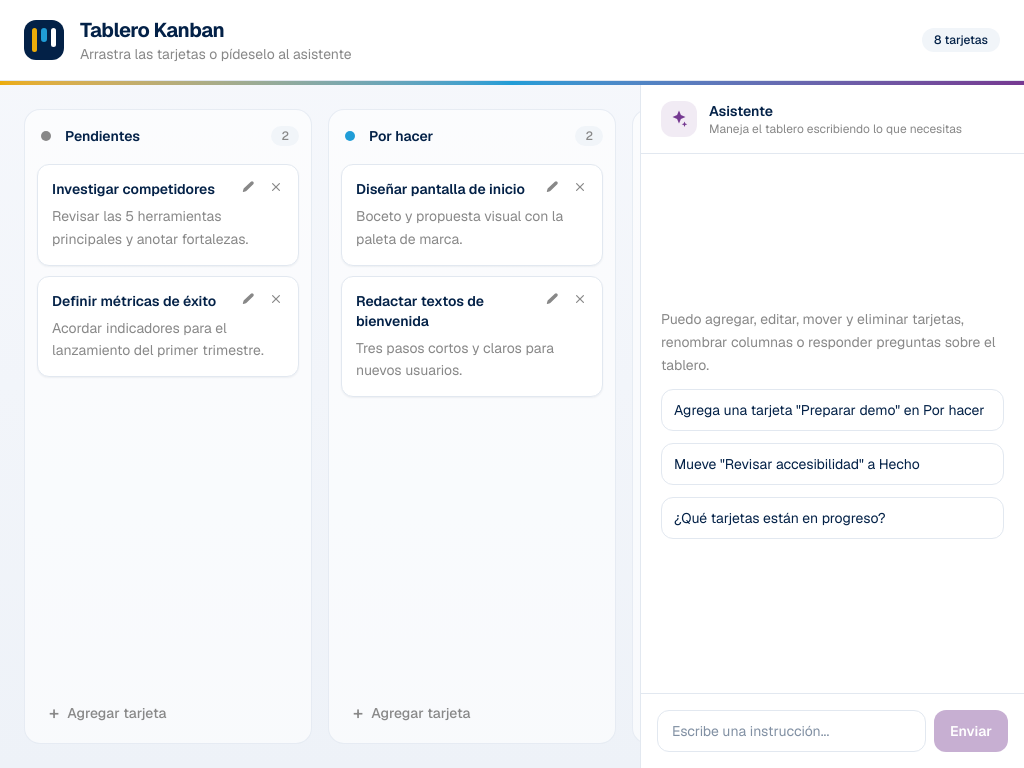
Test: Asistente › muestra el error y permite reintentar
The image size is (1024, 768).
Type "Hola" into the field named "Mensaje para el asistente" at [791, 731], box [657,710,926,752]
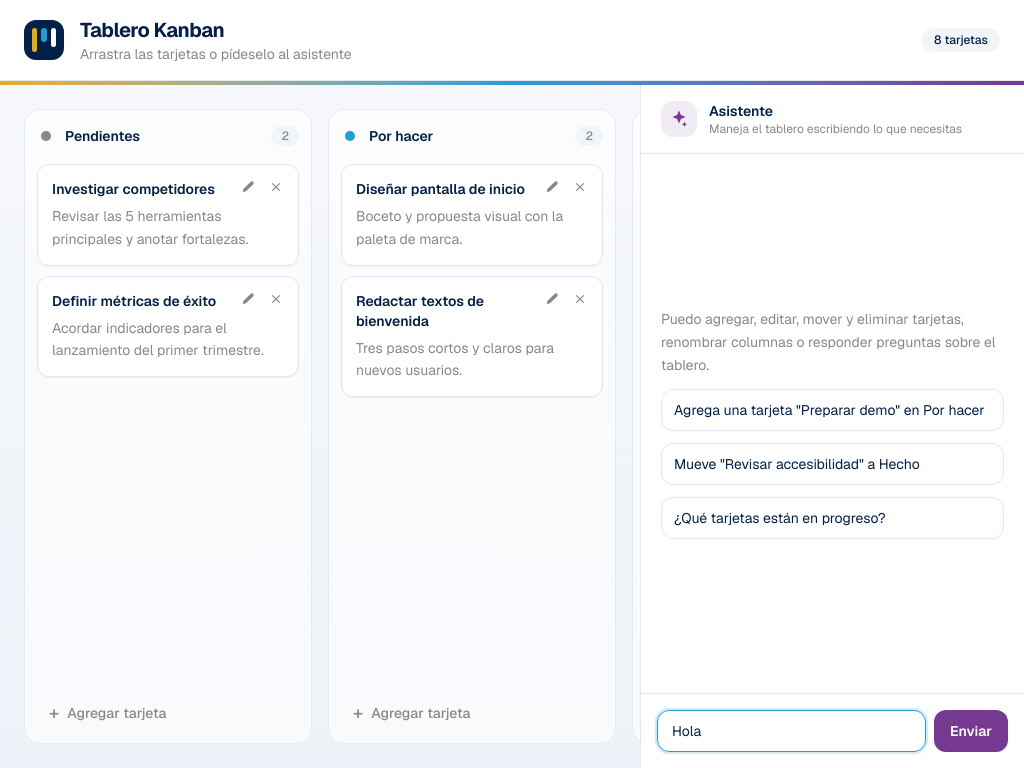
Click the button "Enviar" at [971, 731], box [934,710,1008,752]
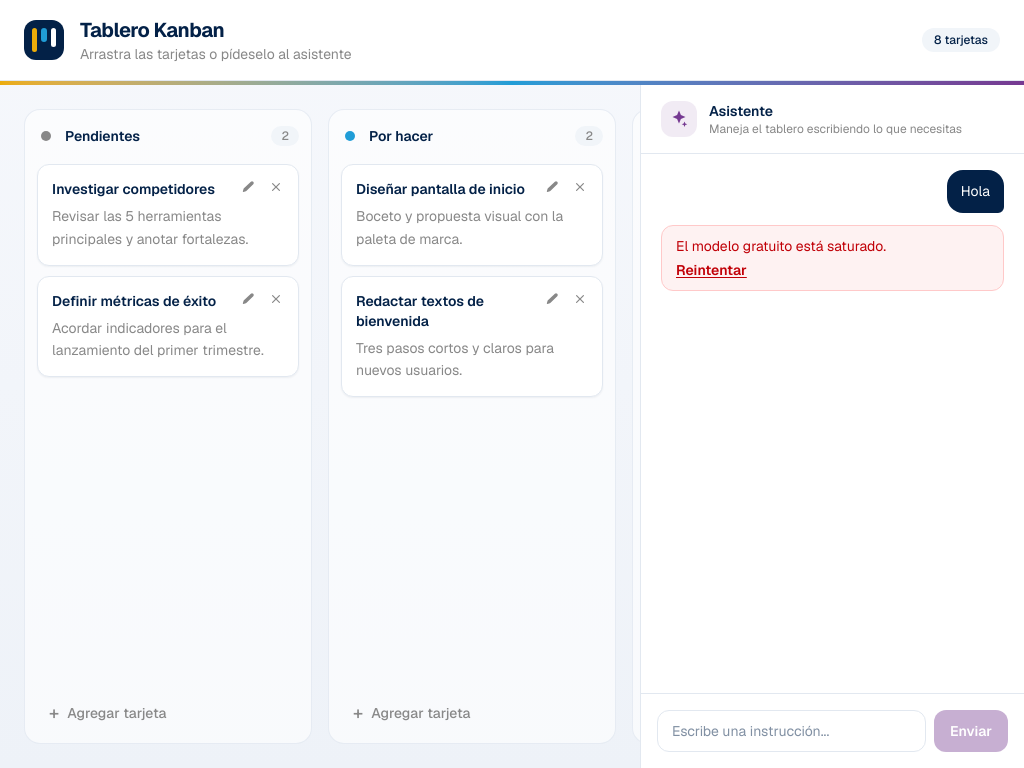
Check: the message shows "El modelo gratuito está saturado.", box [676,237,886,255]
Click the button "Reintentar" at [711, 270], box [676,260,747,280]
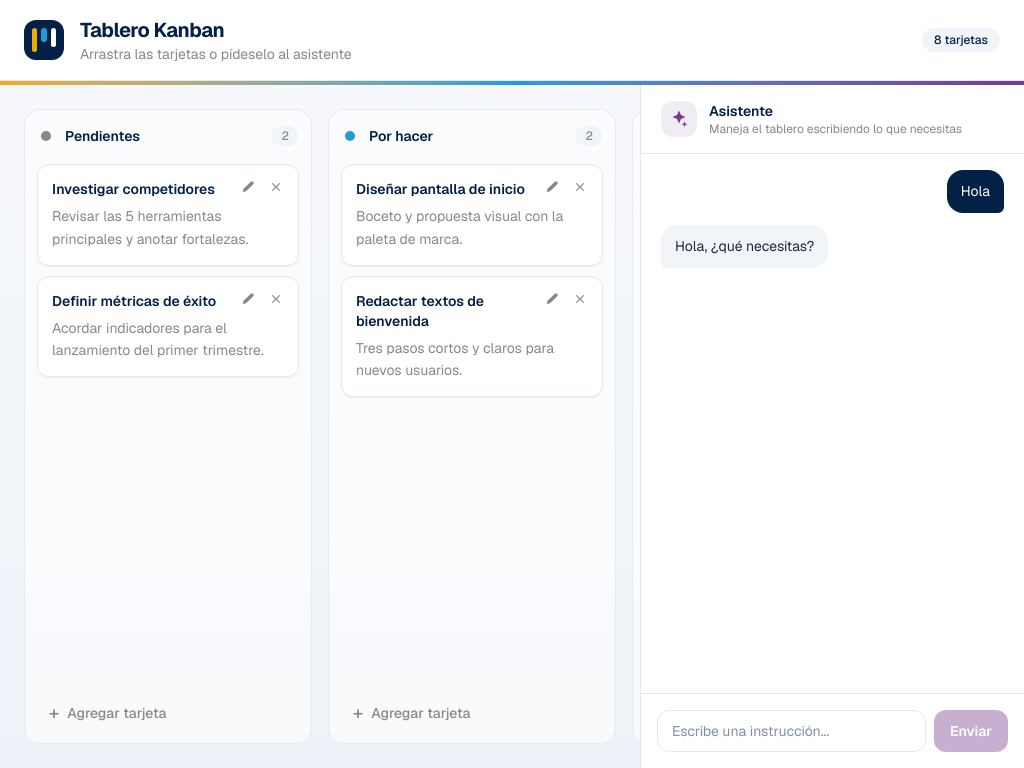
Check: the text "Hola, ¿qué necesitas?" is shown, box [661,225,828,268]
Check: the message "El modelo gratuito está saturado. Reintentar" is gone
